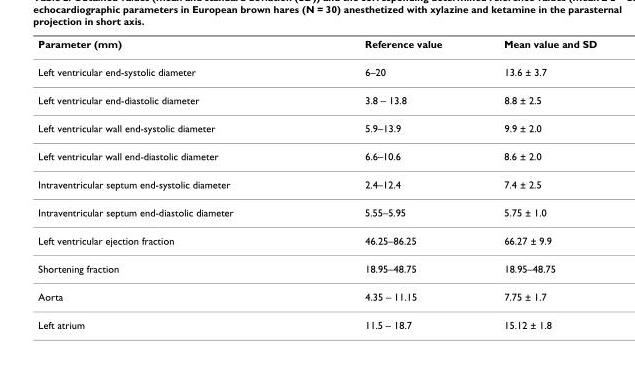table: (37, 37, 596, 330)
table column: (37, 37, 298, 330), (298, 37, 472, 330), (472, 37, 596, 330)
table column header: (37, 37, 596, 57)
table row: (37, 169, 596, 198), (37, 57, 596, 85), (37, 85, 596, 113), (37, 113, 596, 141), (37, 141, 596, 169), (37, 198, 596, 226), (37, 226, 596, 254), (37, 254, 596, 282), (37, 282, 596, 310), (37, 37, 596, 57), (37, 310, 596, 330)
